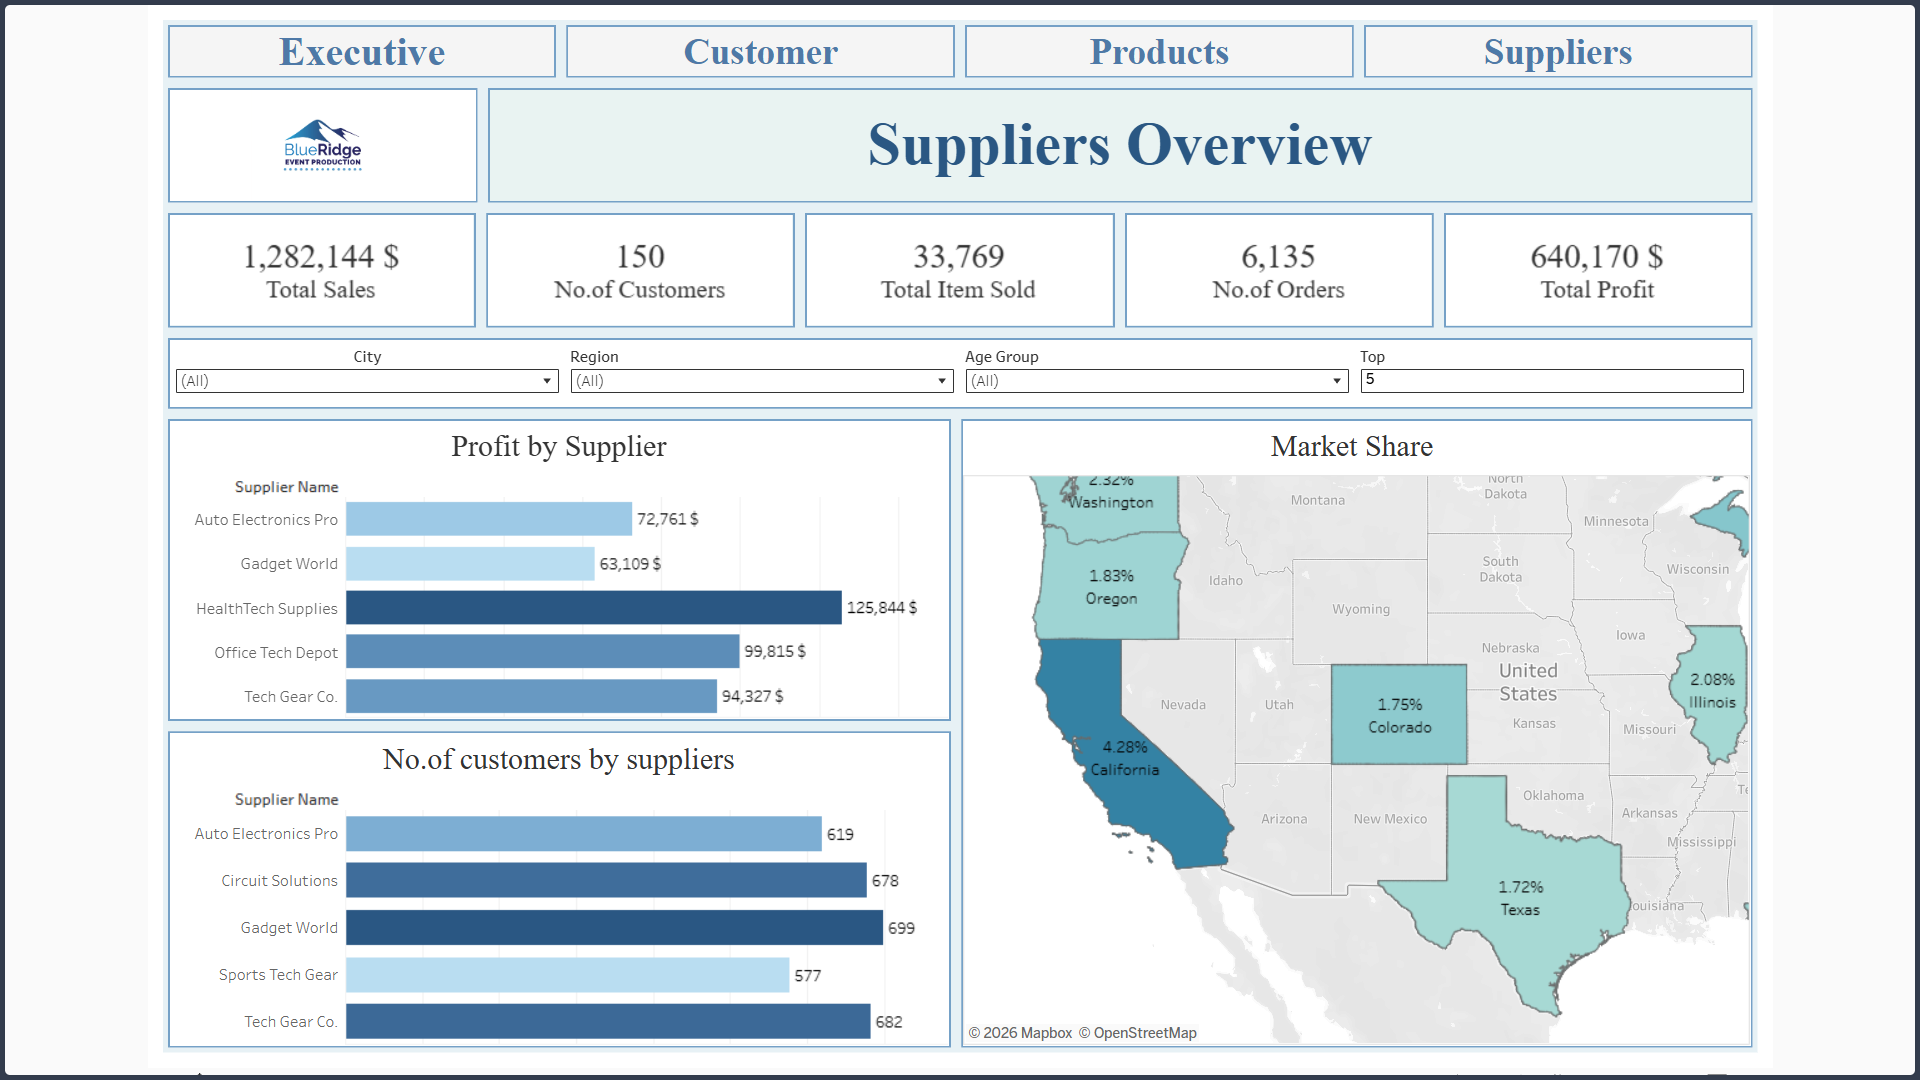

The page's visual inventory and layout, read from the dashboard file:
{"tool":"tableau","page":{"name":"Suppliers","canvas":[1000,800],"ordinal":3},"visuals":[{"type":"dashboard-object","box":[14,14,322,42]},{"type":"dashboard-object","box":[336,14,322,42]},{"type":"dashboard-object","box":[658,14,322,42]},{"type":"image","param":"C:/Users/Ahmed/AppData/Local/Temp/TableauTemp/1hvyjgg14ugloi1du9xk40uoaza9/Sheet","box":[10,60,256,100]},{"type":"worksheet","title":"Total sales","mark":"Automatic","box":[10,160,259.2,100]},{"type":"worksheet","title":"No.of Cust","mark":"Automatic","box":[269.2,160,259.2,100]},{"type":"worksheet","title":"total items","mark":"Automatic","box":[528.4,160,259.2,100]},{"type":"filter","title":"No. of Orders","param":"[federated.0gzt13c13roajo1d21p27038xadh].[none:City:nk]","box":[16,266,321,53]},{"type":"filter","title":"No. of Orders","param":"[federated.0gzt13c13roajo1d21p27038xadh].[none:Region:nk]","box":[337,266,321,53]},{"type":"filter","title":"No.of customers by suppliers","param":"[federated.0gzt13c13roajo1d21p27038xadh].[none:Calculation_0430227850764292:nk]","box":[658,266,321,53]},{"type":"worksheet","title":"Profit by Supplier","mark":"Automatic","rows":["Supplier_Name"],"cols":["Calculation_1653159143706629"],"box":[10,325,667,250]}]}

Visuals, with their boxes on the page's 1000x800 design canvas (x1, y1, x2, y2). These are canvas units, not pixel positions in the 1920x1080 screenshot, which may show the page scaled, cropped or inside an application window:
dashboard-object: <region>14, 14, 336, 56</region>
dashboard-object: <region>336, 14, 658, 56</region>
dashboard-object: <region>658, 14, 980, 56</region>
image: <region>10, 60, 266, 160</region>
"Total sales" worksheet: <region>10, 160, 269, 260</region>
"No.of Cust" worksheet: <region>269, 160, 528, 260</region>
"total items" worksheet: <region>528, 160, 788, 260</region>
"No. of Orders" filter: <region>16, 266, 337, 319</region>
"No. of Orders" filter: <region>337, 266, 658, 319</region>
"No.of customers by suppliers" filter: <region>658, 266, 979, 319</region>
"Profit by Supplier" worksheet: <region>10, 325, 677, 575</region>
